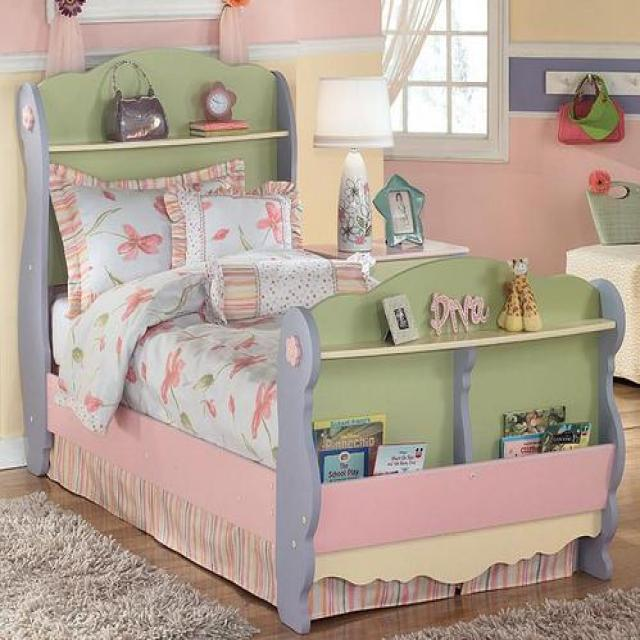bed: (13, 161, 626, 640)
